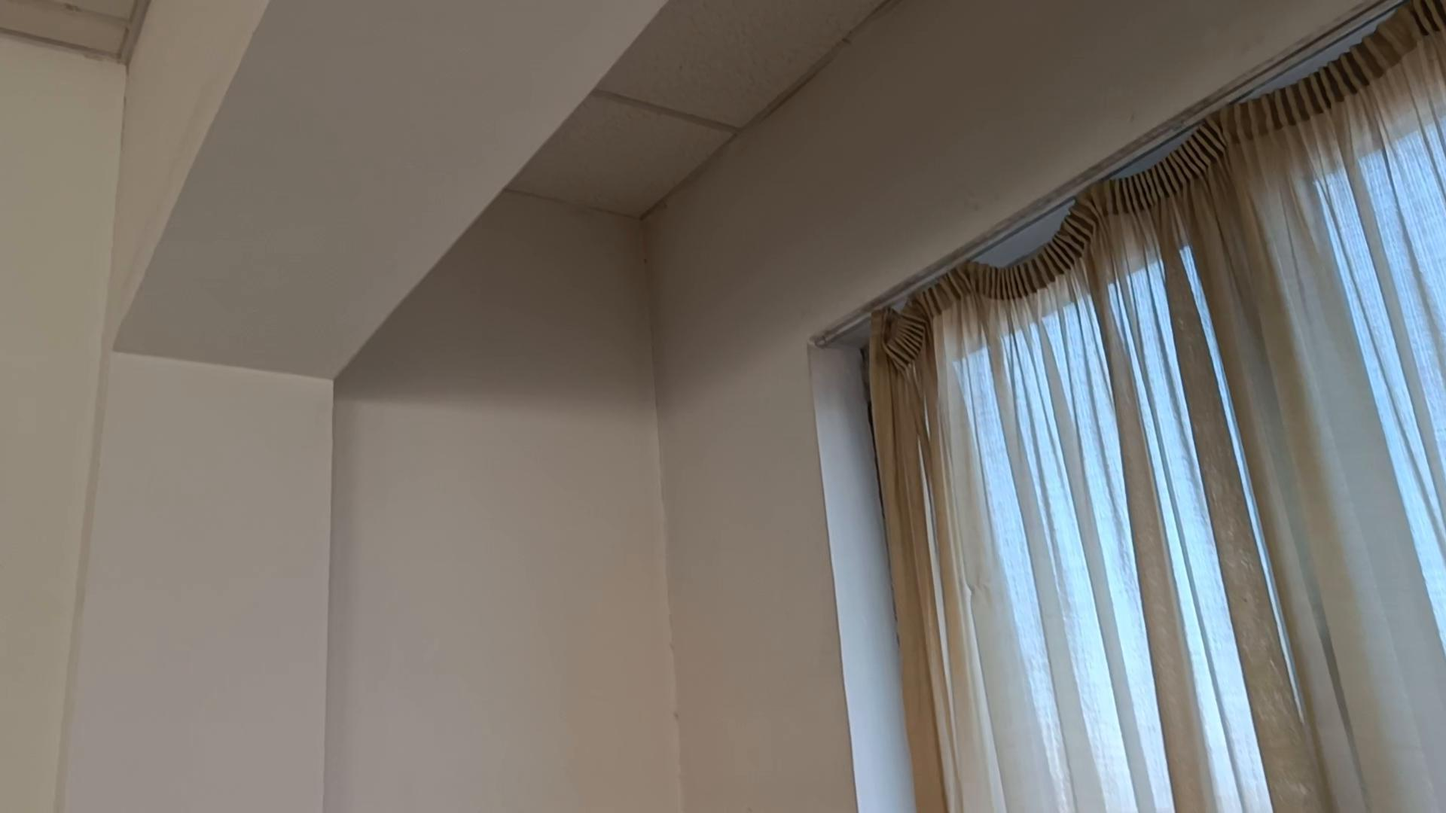ceiling: (115, 3, 667, 375), (511, 3, 895, 220), (0, 0, 146, 56)
wall: (330, 5, 1359, 812), (0, 31, 334, 812), (112, 0, 264, 343)
